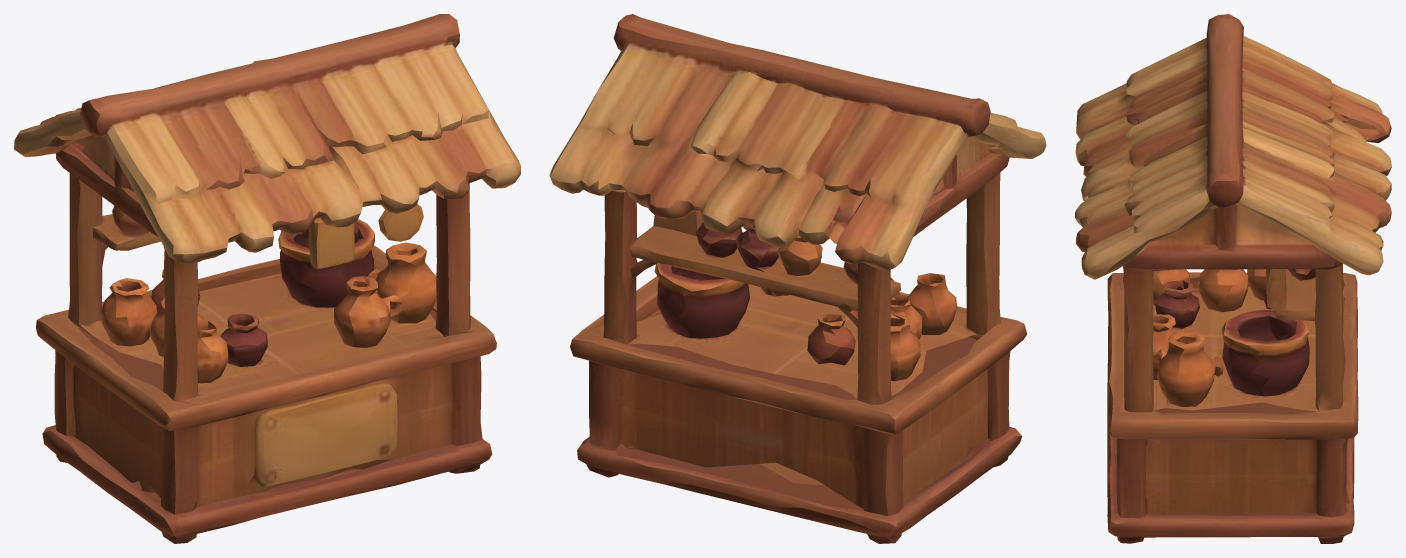
Rendered from lg-market-stall-pots.glb.
The picture shows the model from 3 angles, left to right: view 1: azimuth 30°, elevation 25°; view 2: azimuth 150°, elevation 25°; view 3: azimuth 270°, elevation 25°; orthographic projection. The views are drawn at different scales.
Visible parts, largest first — view 1: geometry_0; view 2: geometry_0; view 3: geometry_0.
Boxes of the visible parts, <box> form: geometry_0: <box>14,14,520,543</box>; geometry_0: <box>549,14,1046,543</box>; geometry_0: <box>1075,14,1391,543</box>.
Bounding box in the file's own units: 0.9375 × 1 × 0.7512.
Materials: 1 (1 with a texture image).
